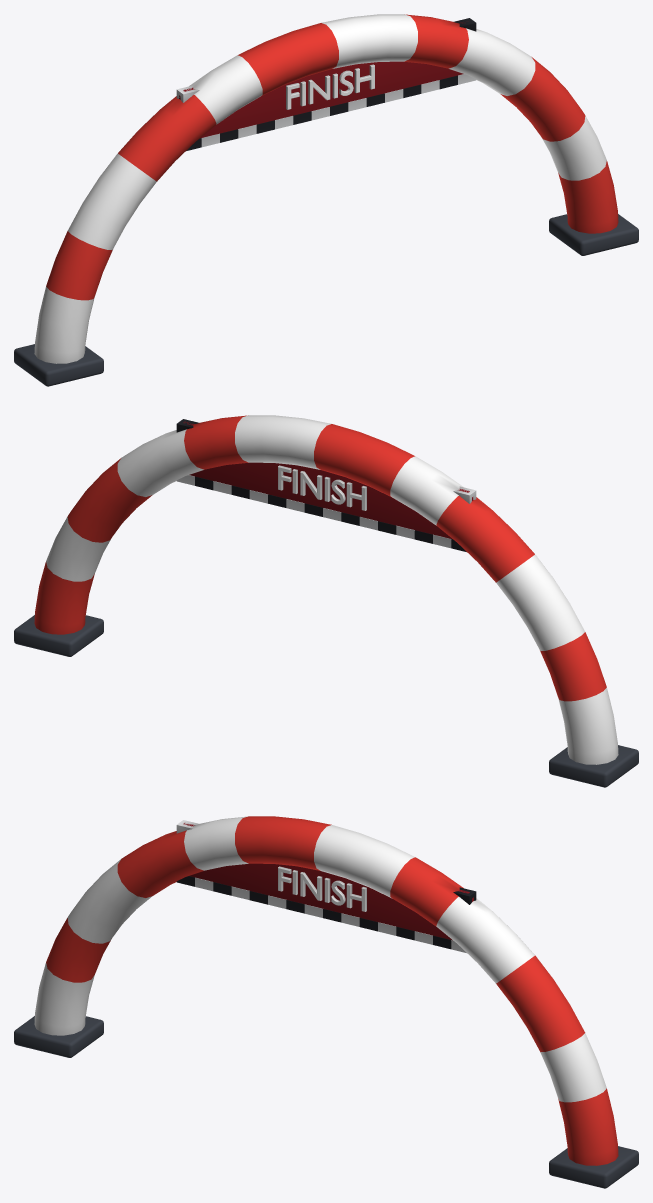
File: bl_gate_finish.glb
3 views of the same model, one above another, from view 1: azimuth 30°, elevation 25°; view 2: azimuth 150°, elevation 25°; view 3: azimuth 330°, elevation 25° (orthographic).
Visible parts, largest first — view 1: gate_finish; view 2: gate_finish; view 3: gate_finish.
Part boxes in pixels (<box>): gate_finish: <box>14,14,638,386</box>; gate_finish: <box>14,415,638,787</box>; gate_finish: <box>14,816,638,1188</box>.
Size of the model in its own units: 16.2 by 7.27 by 1.6.
